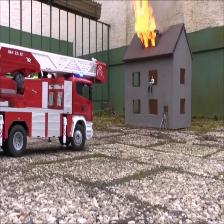fire: (135, 3, 158, 45)
